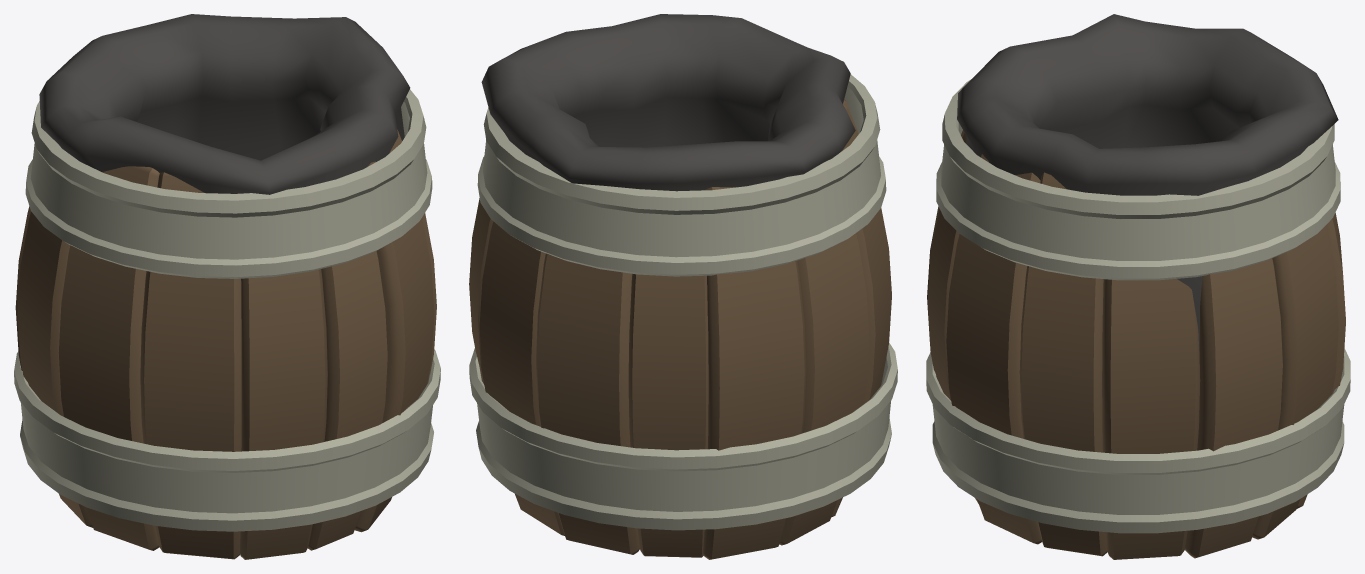
File: Barrel_Object.fbx
3 views of the same model, side by side, from view 1: azimuth 30°, elevation 25°; view 2: azimuth 150°, elevation 25°; view 3: azimuth 270°, elevation 25° (orthographic).
Parts seen in each view (by area): view 1: polySurface5; view 2: polySurface5; view 3: polySurface5.
Part boxes in pixels (<box>): polySurface5: <box>14,14,440,559</box>; polySurface5: <box>469,14,897,559</box>; polySurface5: <box>926,14,1350,559</box>.
Bounding box in the file's own units: 5.41 × 5.85 × 5.41.
